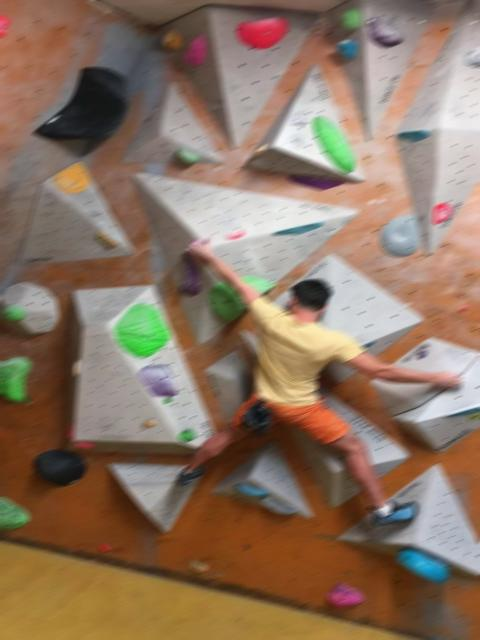crimp: (137, 364, 177, 397), (52, 162, 91, 194), (287, 174, 343, 190), (273, 222, 324, 235), (396, 130, 429, 142), (96, 230, 118, 247), (225, 229, 246, 239), (252, 144, 266, 156), (73, 360, 80, 375)
jib: (178, 428, 196, 442), (142, 420, 156, 427)
ledge: (261, 497, 297, 514), (234, 483, 269, 497)
pinch: (397, 549, 450, 583)
pocket: (378, 215, 420, 257), (432, 203, 453, 224)
sidepull: (178, 253, 202, 296)
sloper: (312, 115, 355, 172), (33, 449, 86, 486), (3, 303, 26, 321)
volume: (67, 285, 214, 447), (395, 2, 480, 255), (244, 64, 363, 181), (17, 162, 134, 265), (120, 83, 222, 164), (0, 282, 59, 337)
